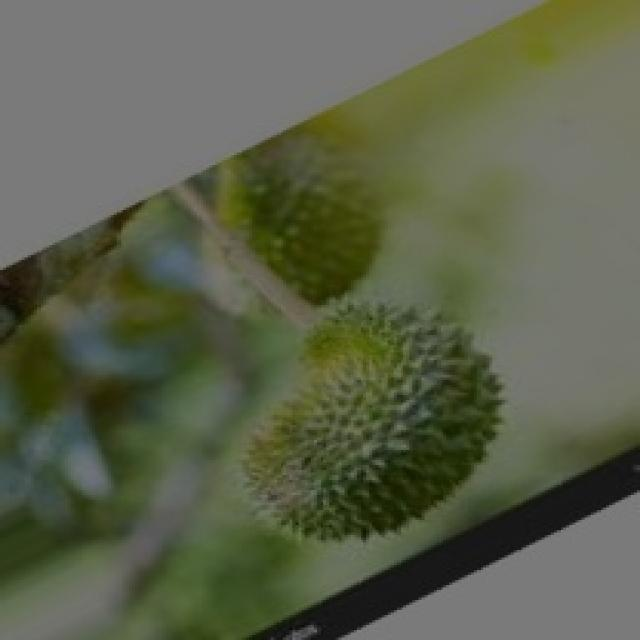fruit: (182, 252, 590, 620)
